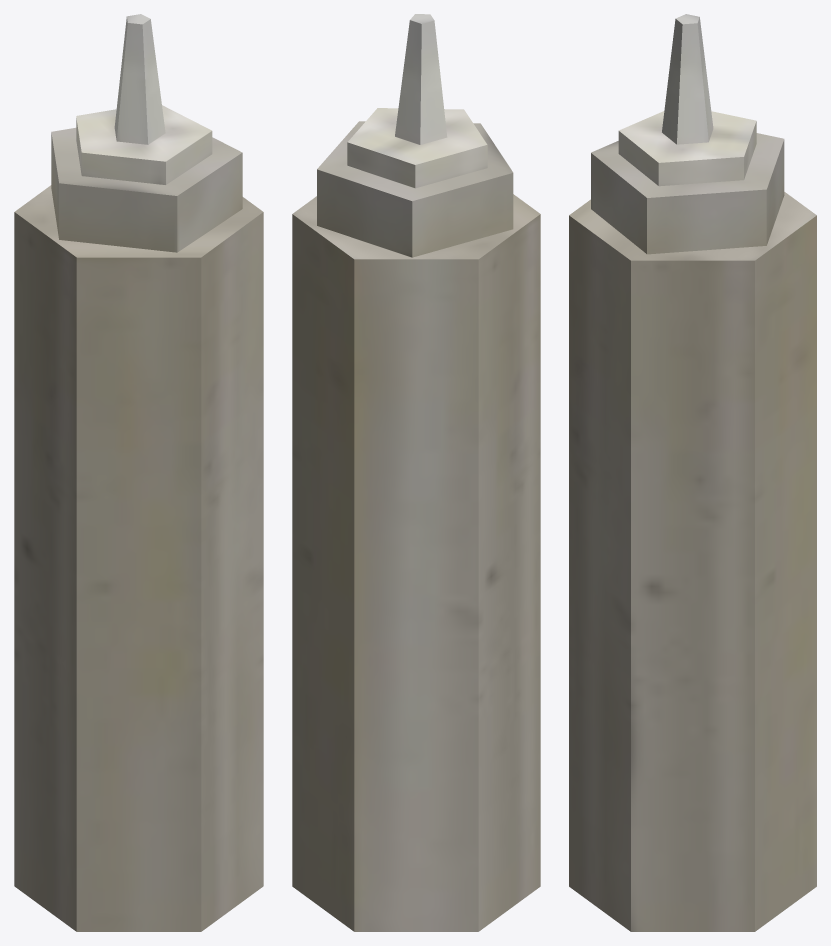
The model's file is Dressing.dae.
The picture shows the model from 3 angles, left to right: view 1: azimuth 30°, elevation 25°; view 2: azimuth 150°, elevation 25°; view 3: azimuth 270°, elevation 25°; orthographic projection.
Parts seen in each view (by area): view 1: Dressing; view 2: Dressing; view 3: Dressing.
Boxes of the visible parts, x1,y1,x2,y2 form: Dressing: [14, 14, 263, 931]; Dressing: [292, 14, 540, 931]; Dressing: [569, 14, 816, 931].
Bounding box in the file's own units: 0.0645 × 0.0744 × 0.2868.
Materials: 1 (1 with a texture image).
